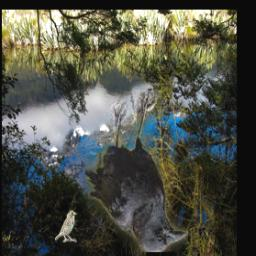Crow: (85, 90, 188, 252)
Sparrow: (55, 210, 77, 243)
